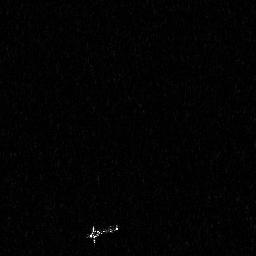ship: (85, 222, 119, 247)
